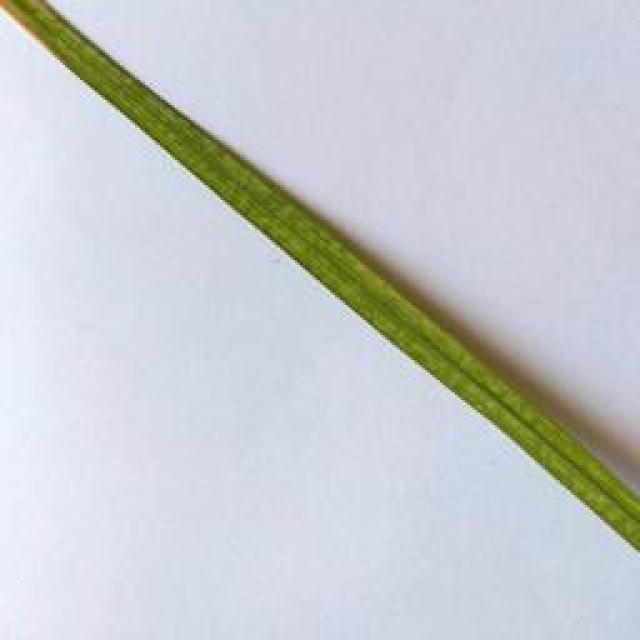Bacterial_Blight: (0, 0, 65, 65)
